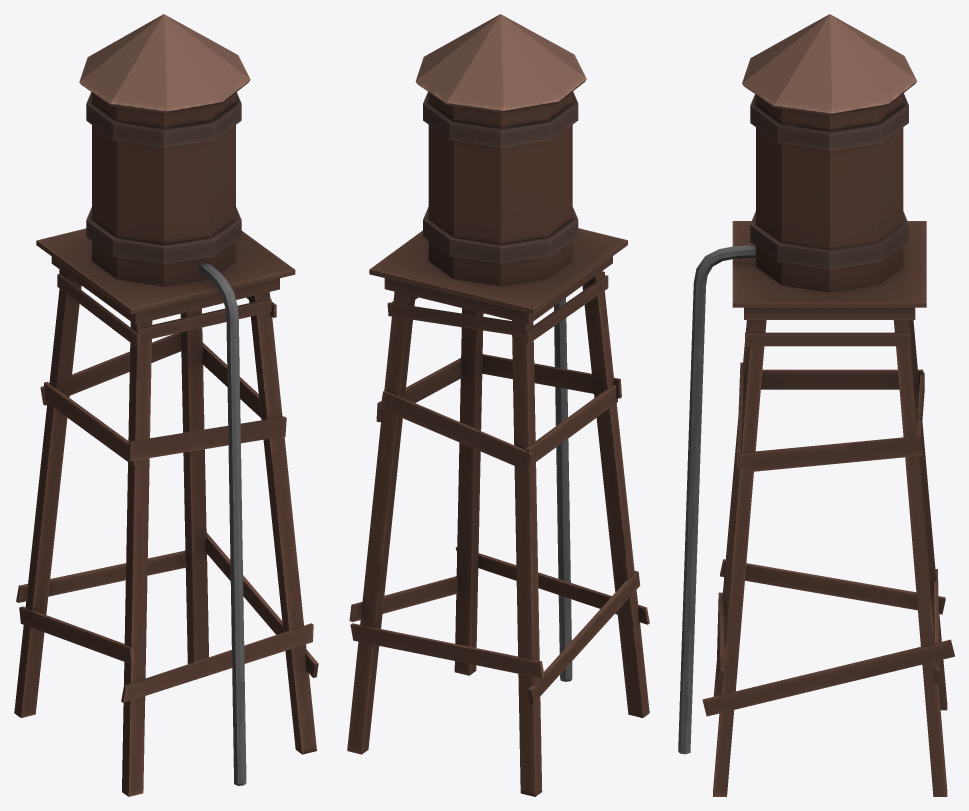
File: Water_Tower_1.fbx
The picture shows the model from 3 angles, left to right: view 1: azimuth 30°, elevation 25°; view 2: azimuth 150°, elevation 25°; view 3: azimuth 270°, elevation 25°; orthographic projection. The views are drawn at different scales.
Visible parts, largest first — view 1: Water_Tower_1; view 2: Water_Tower_1; view 3: Water_Tower_1.
Boxes of the visible parts, <box> form: Water_Tower_1: <box>14,14,318,796</box>; Water_Tower_1: <box>347,14,649,796</box>; Water_Tower_1: <box>678,14,954,796</box>.
Bounding box in the file's own units: 102 × 367 × 125.
